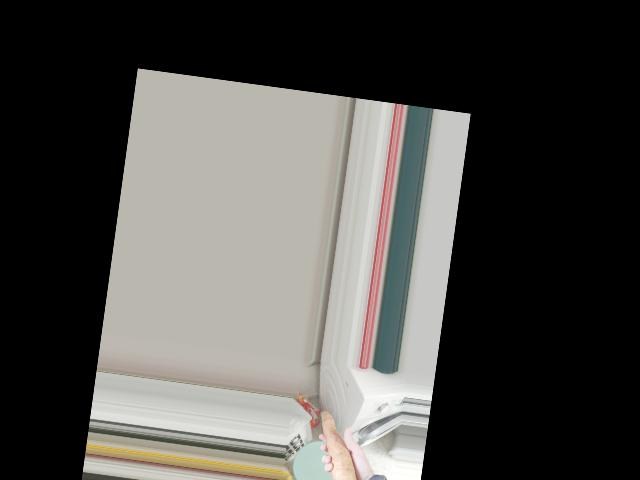sweet_potato: (306, 403, 370, 480)
